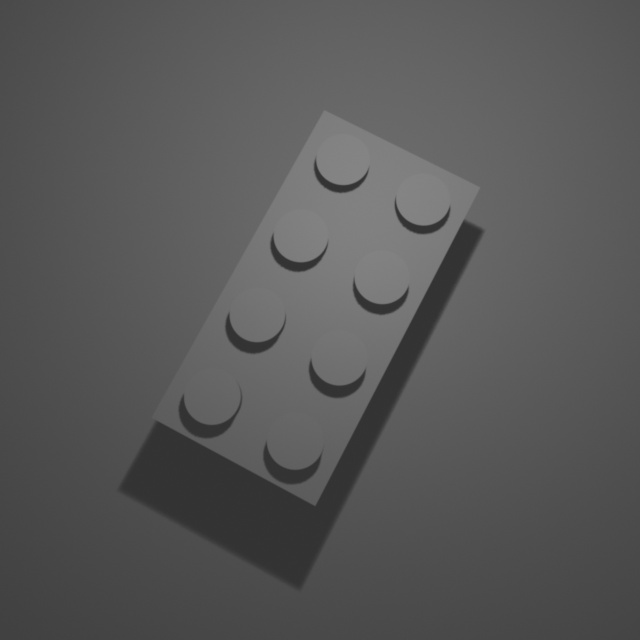lego_2x4: (148, 103, 484, 506)
